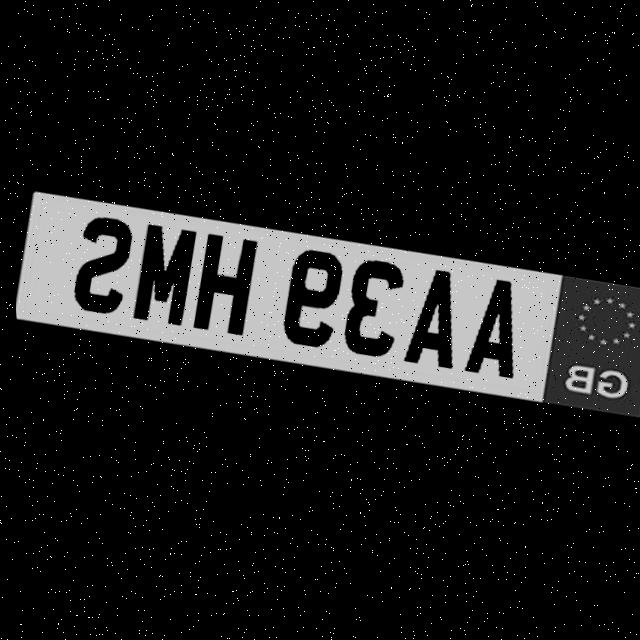license-plates: (15, 189, 640, 417)
